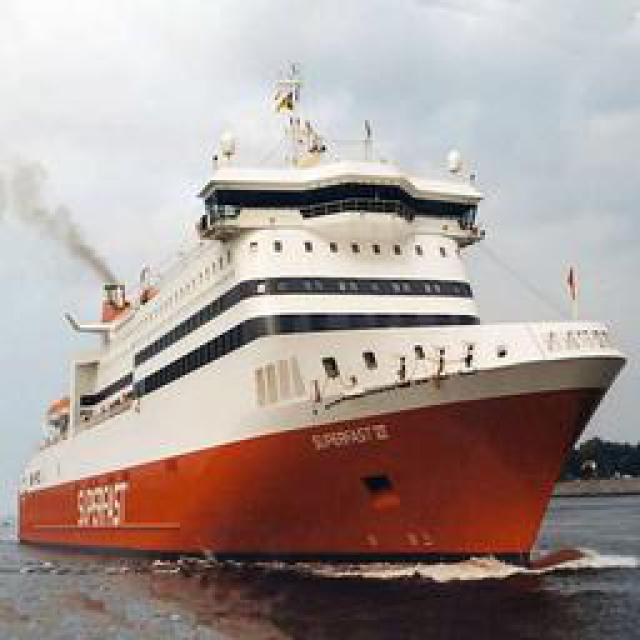Ship: (25, 70, 633, 578)
